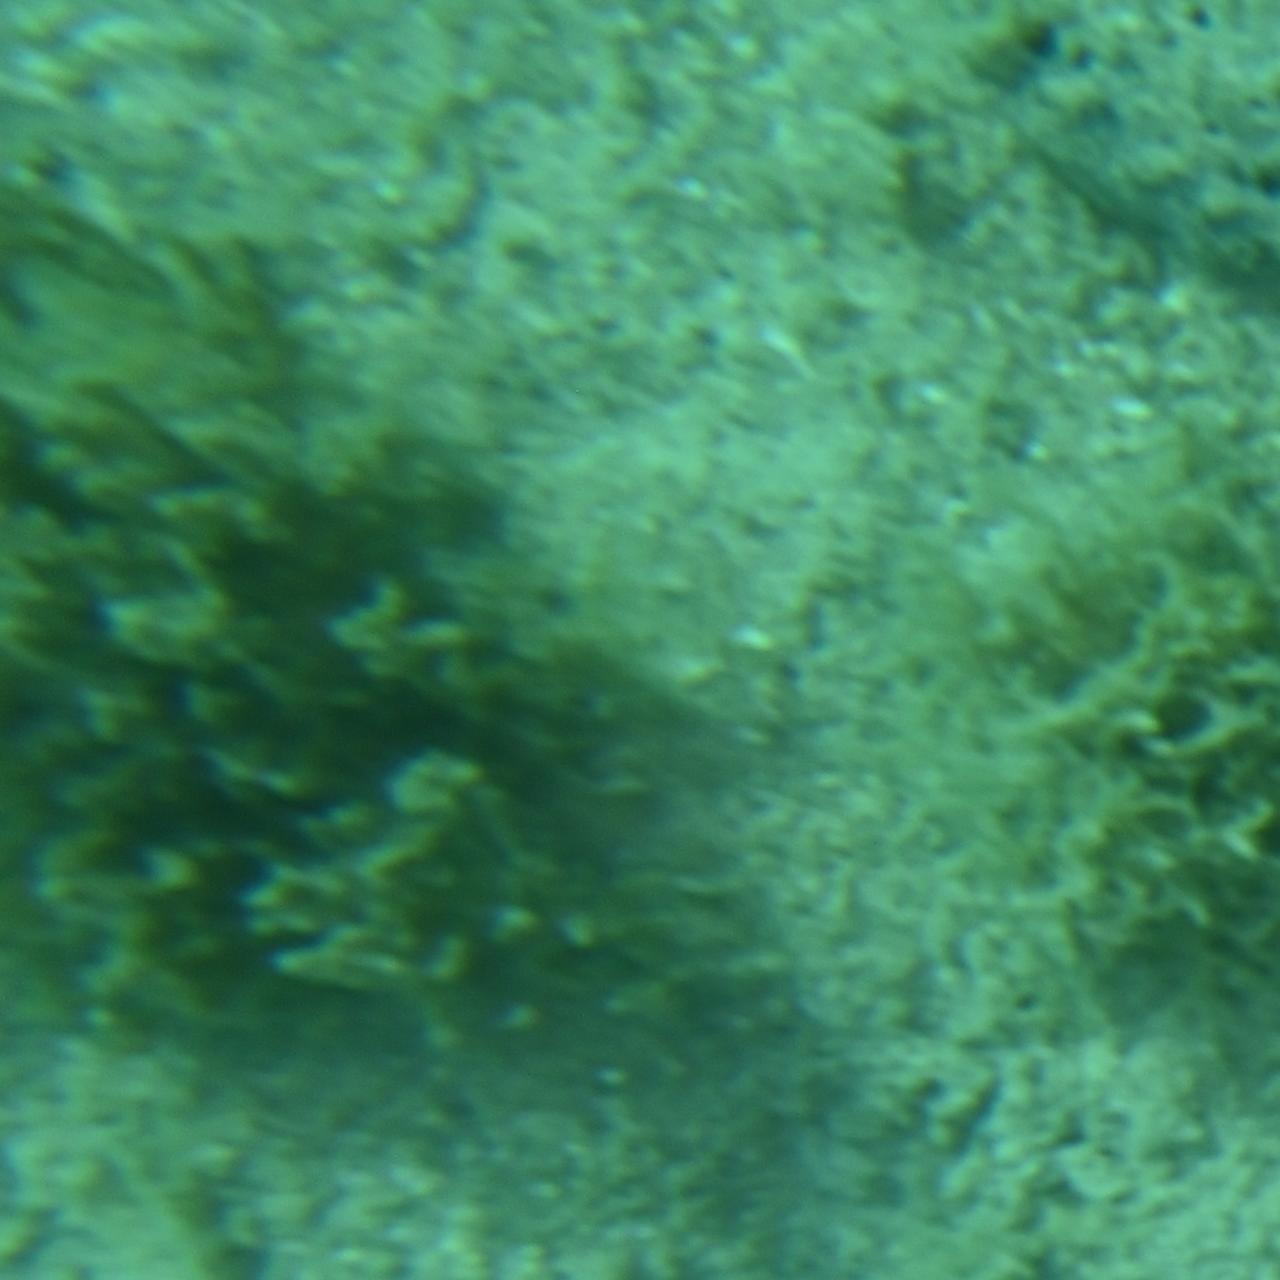Phaeophyceae -cfr Cystoseira-: (2, 189, 799, 1091)
